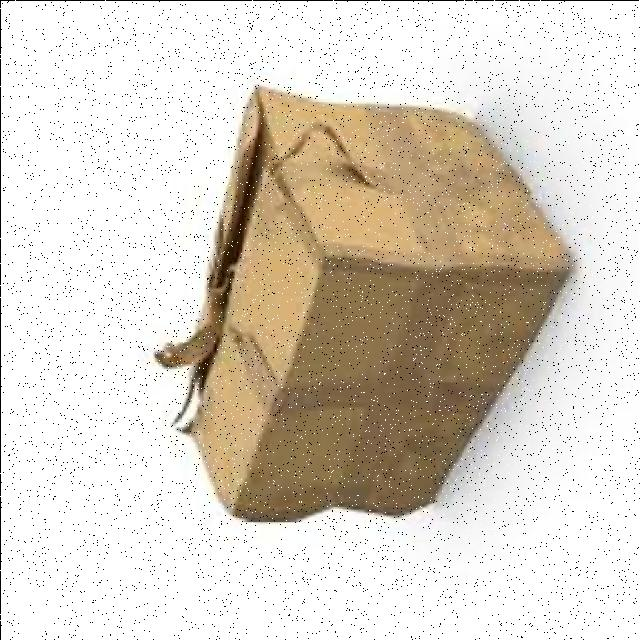defect: (178, 81, 570, 526)
